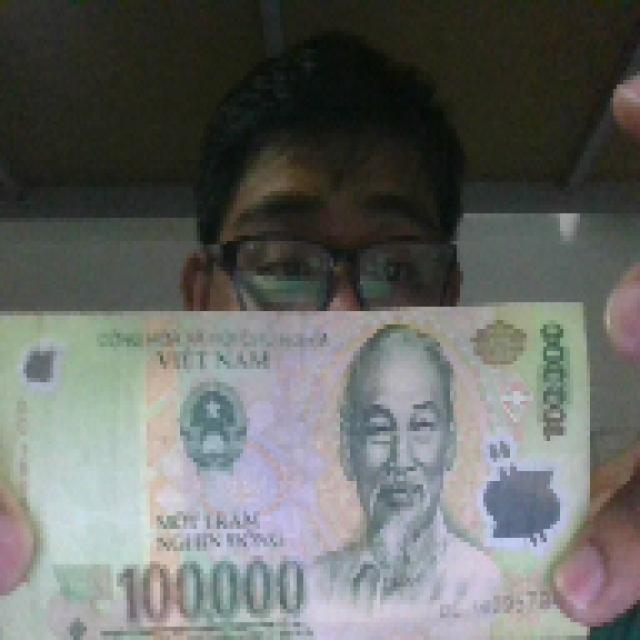100 000 VND: (0, 298, 597, 636)
